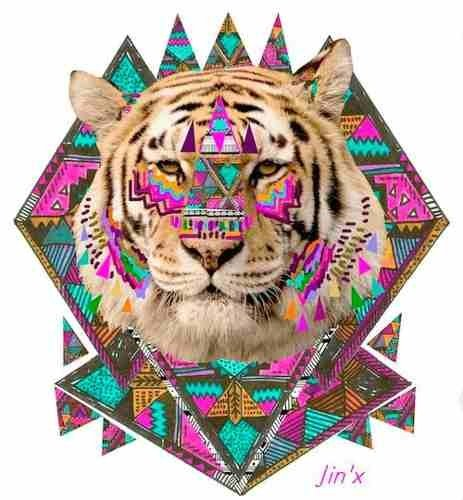Tigrew: (29, 42, 414, 385)
